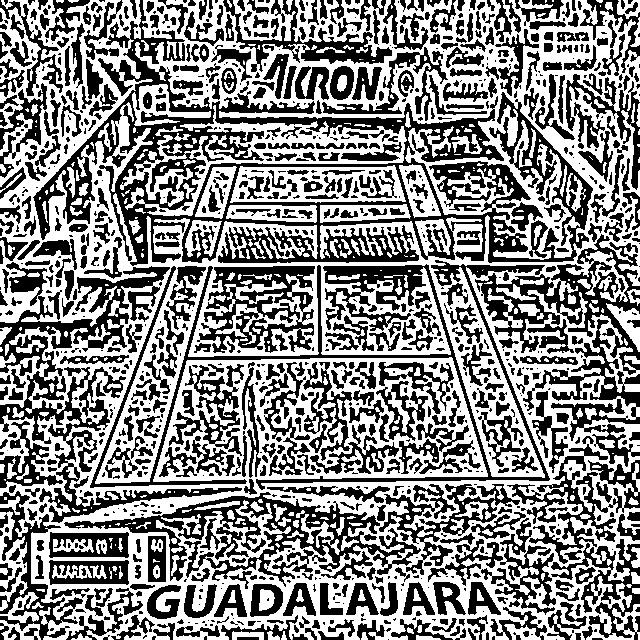left side: (397, 164, 548, 479), (91, 165, 239, 486)
player: (239, 362, 269, 497), (400, 102, 418, 166)
